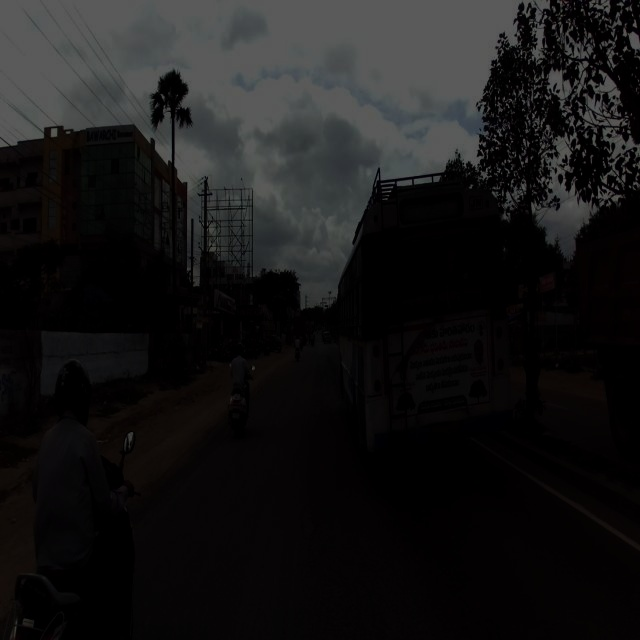Pothole: (292, 500, 322, 541)
